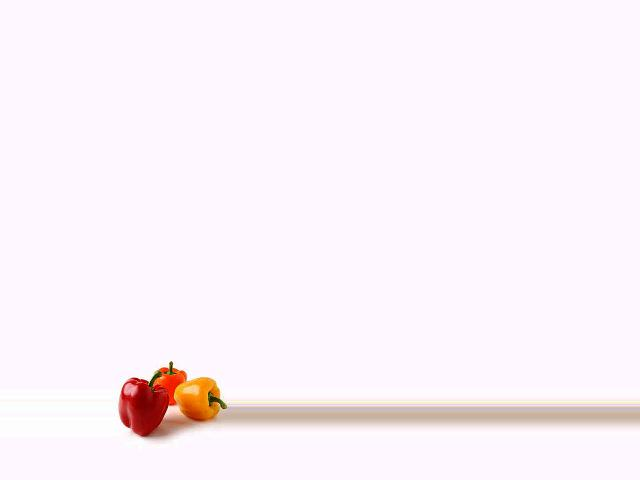bell_pepper: (117, 365, 171, 442)
